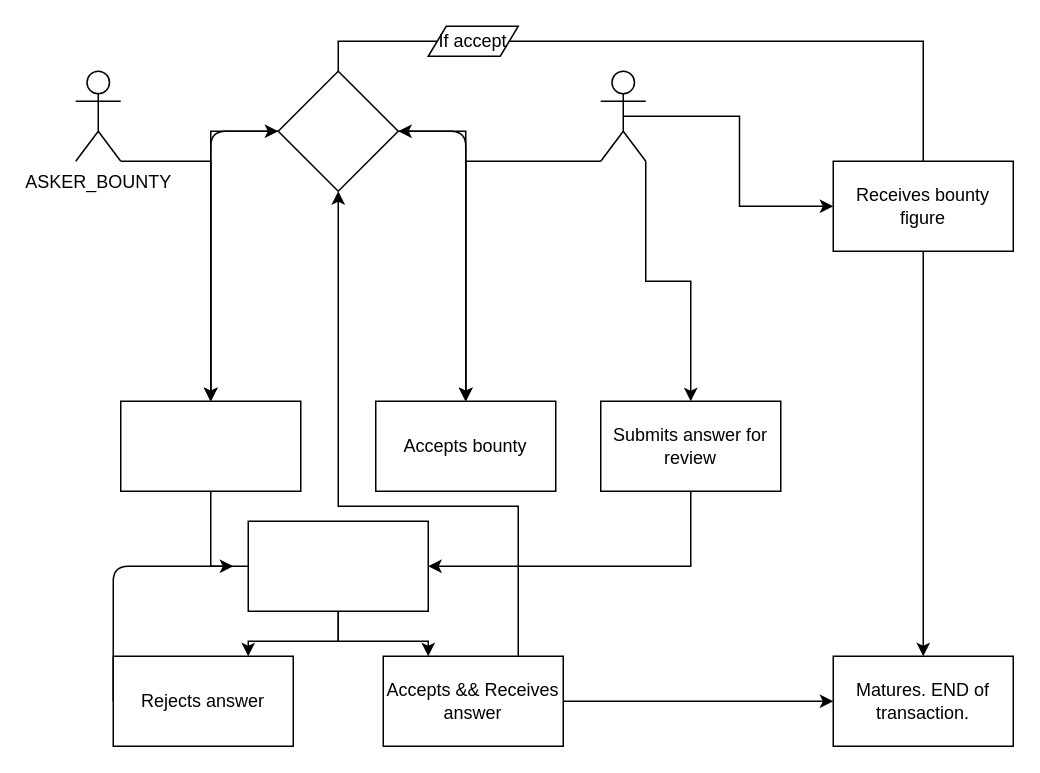
Some shapes in this 1040 by 773 pixel diagram are drawn without their labels. The shapes that lost their labels are listed below. From the top down, each one's centre as x and y in pixels, then its label:
At point 337,130: "Smart Contract".
At point 622,115: "SOLVER BOUNTY".
At point 210,445: "Creates Question w/Bounty Attached".
At point 337,565: "Reviews submissions".
